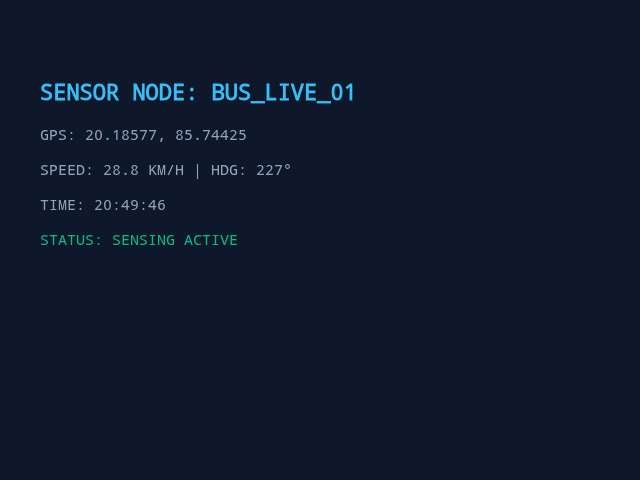pothole: (459, 395, 590, 436), (146, 399, 263, 444)
